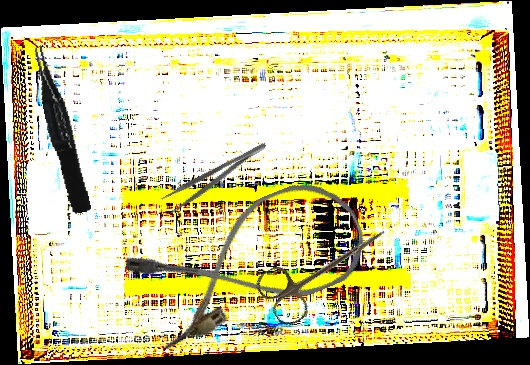Cannula: (121, 167, 377, 355)
Dressing Forceps: (160, 139, 273, 216)
Iris Scissors: (252, 204, 399, 331)
Tissue Forceps: (30, 42, 92, 216)
